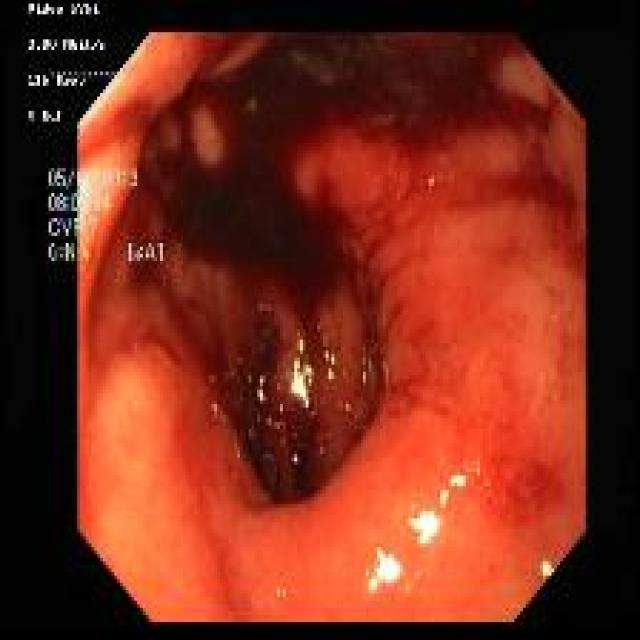ulcerative-colitis: (79, 34, 585, 621)
